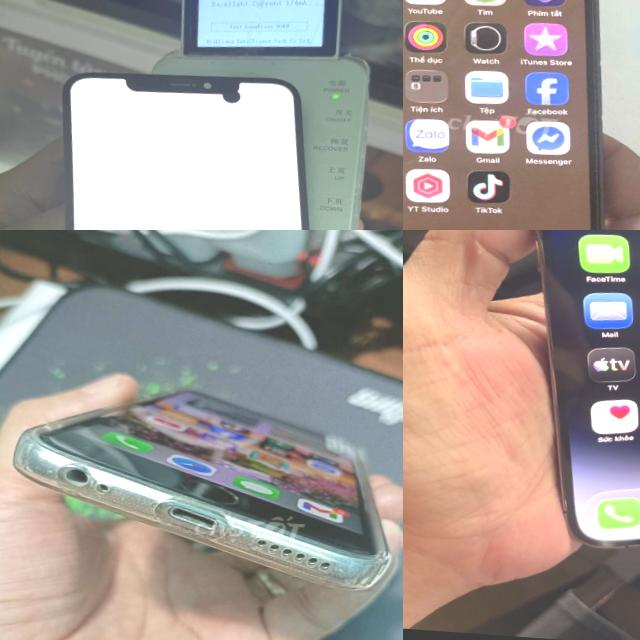gen_12_13: (403, 0, 640, 230)
gen_14: (495, 230, 640, 563)
gen_6: (0, 341, 403, 603)
gen_x_xs: (35, 60, 350, 230)
